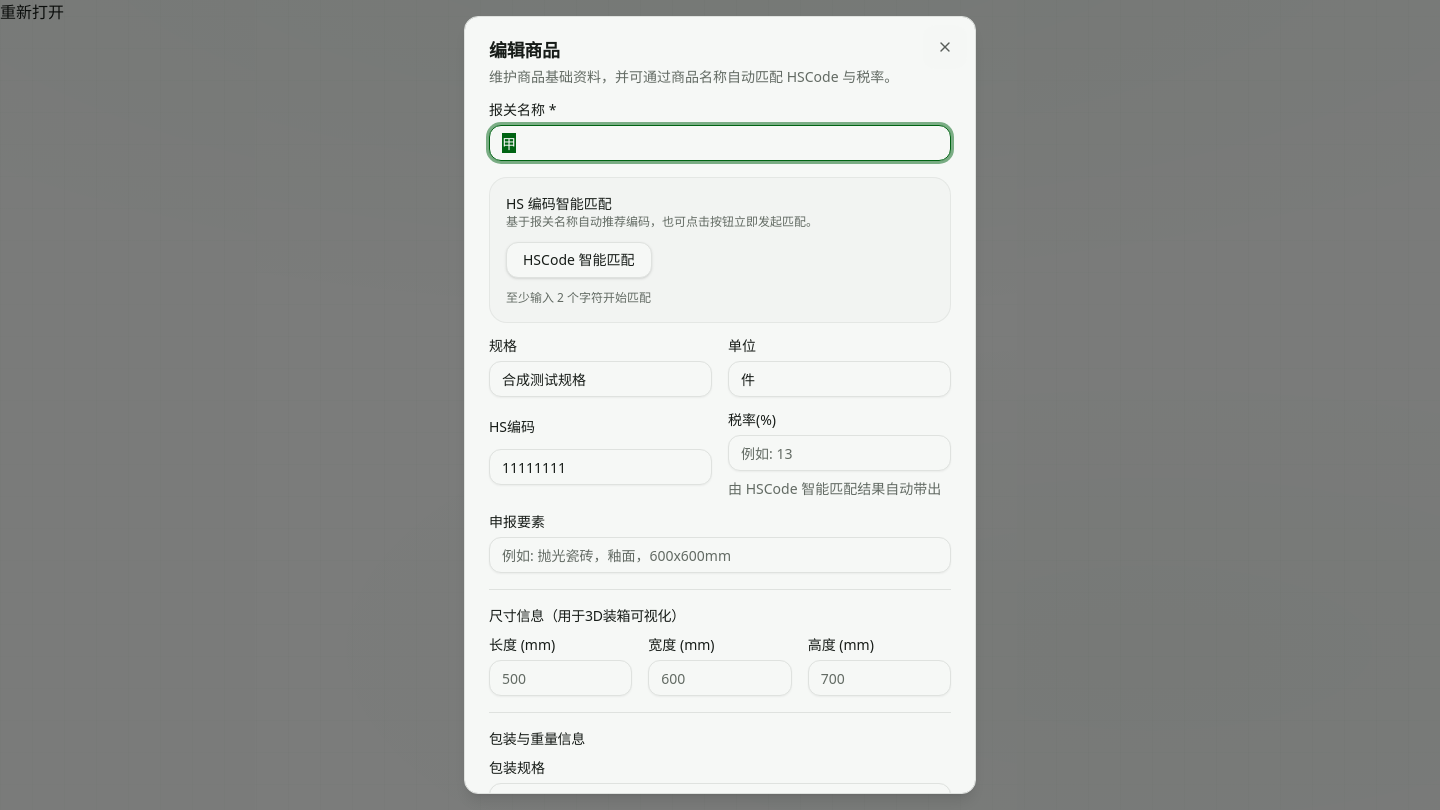
Test: ProductDialog 编辑会话 › 同名手动匹配失败后不会在防抖到期时自动重试，但允许显式重试
Replace the text in the field labelled "报关名称 *" with "合成瓷砖". click: (720, 143)
box: x1=489 y1=125 x2=951 y2=161
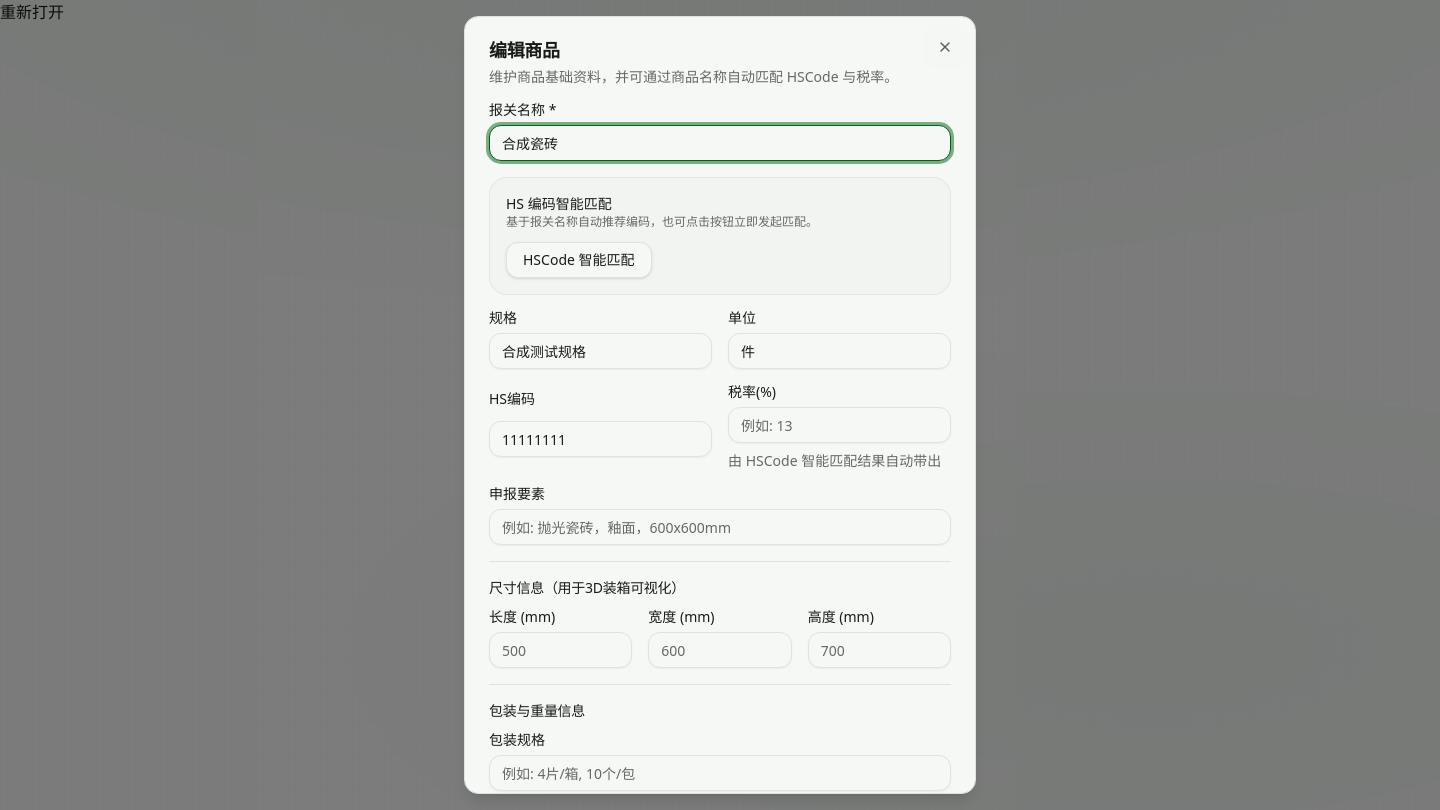
Click the button "HSCode 智能匹配". click: (579, 260)
box: x1=506 y1=242 x2=652 y2=278
Wait 350 ms
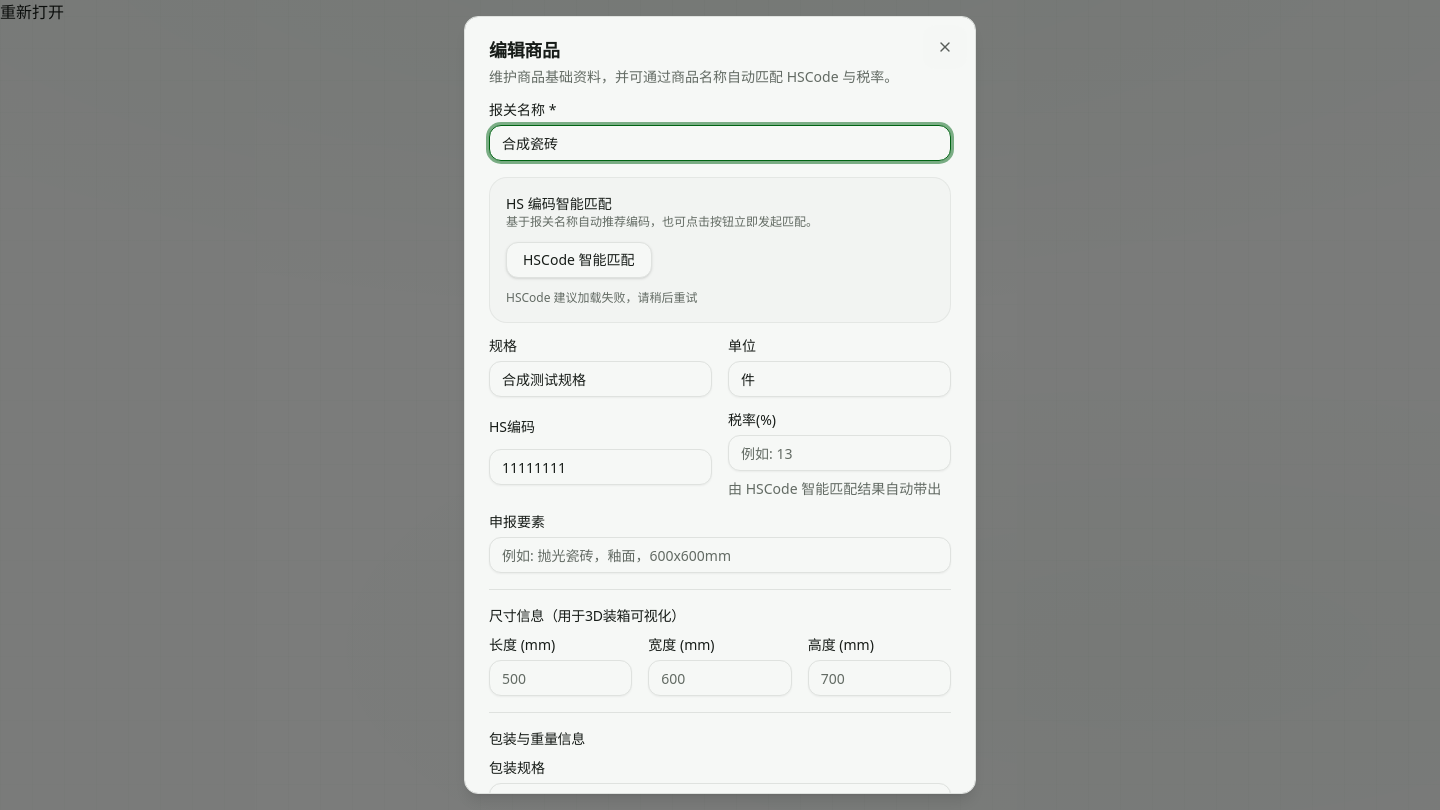
Now the text "HSCode 建议加载失败，请稍后重试" is shown, box x1=506 y1=289 x2=698 y2=306
Click the button "HSCode 智能匹配". click: (579, 260)
box: x1=506 y1=242 x2=652 y2=278
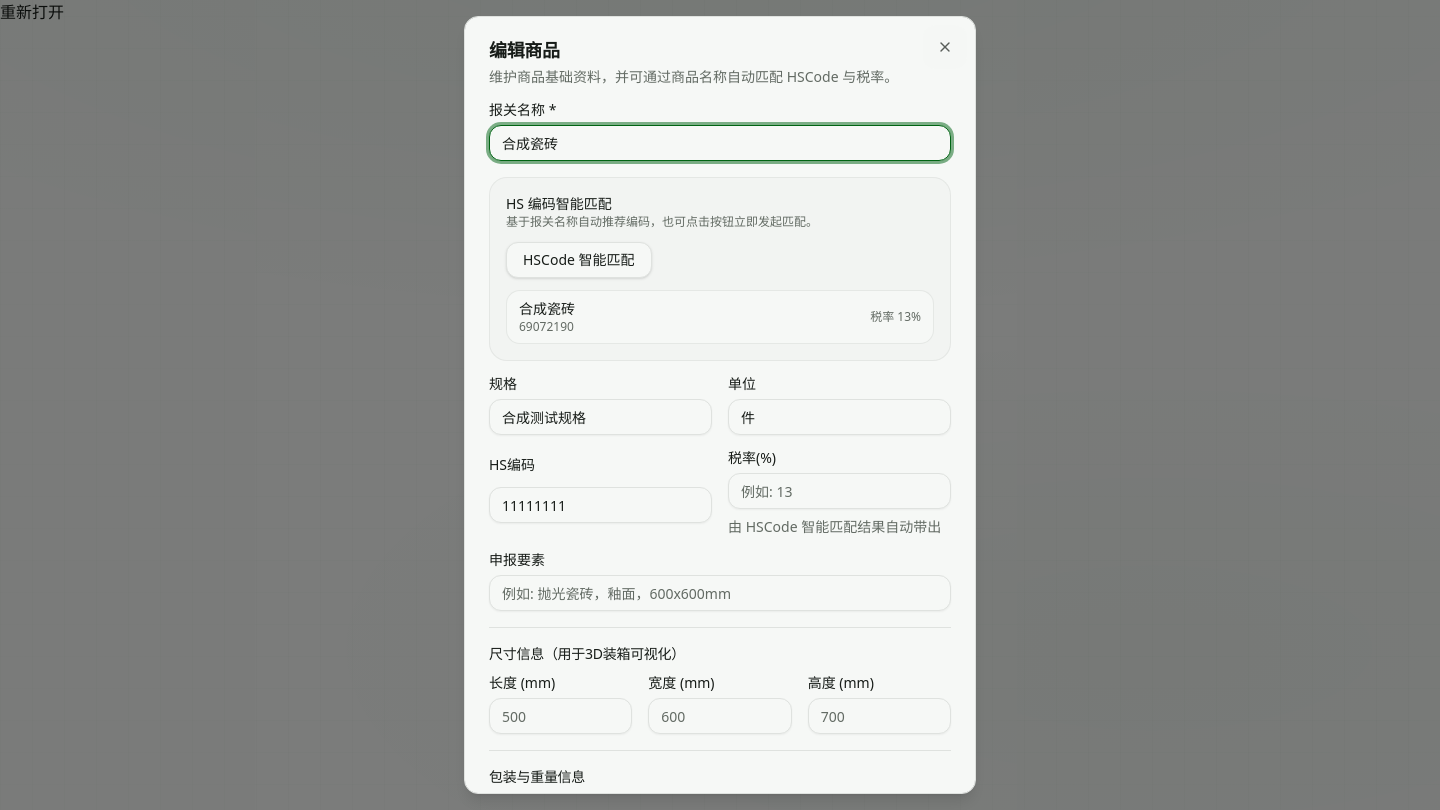
Now the button "合成瓷砖 69072190 税率 13%" is shown, box x1=506 y1=290 x2=934 y2=344
